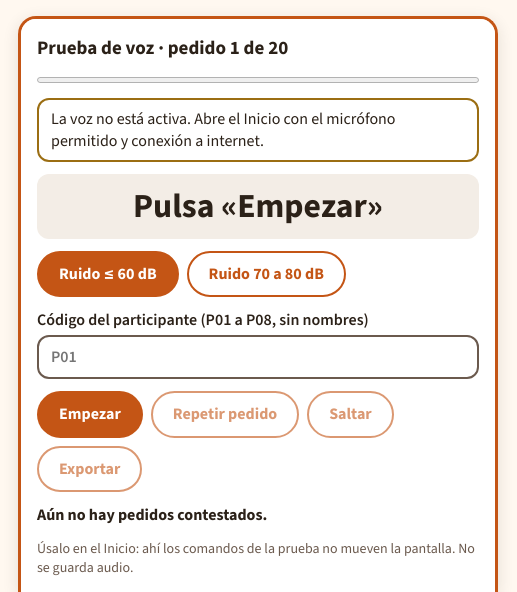
Test: panel de la prueba de voz (CU-05) › saltar un pedido lo marca y no lo cuenta
This screenshot has width=517, height=592.
Click the button "Empezar".
click(90, 415)  # box top-left (37, 392), bottom-right (143, 438)
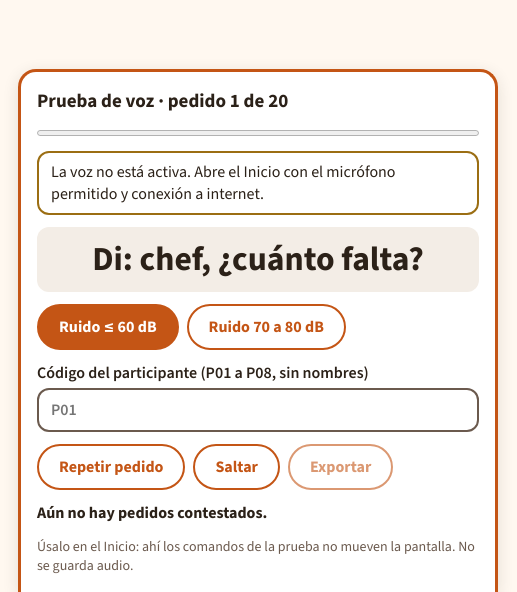
Click the button "Saltar".
click(237, 467)  # box top-left (193, 444), bottom-right (280, 490)
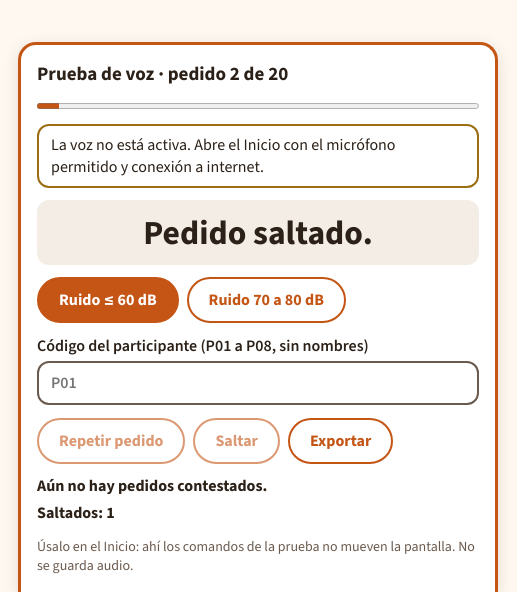
Expected: the text "Pedido saltado" is shown, top-left (143, 210), bottom-right (373, 254)
Expected: the text "Saltados: 1" is shown, top-left (37, 502), bottom-right (115, 523)
